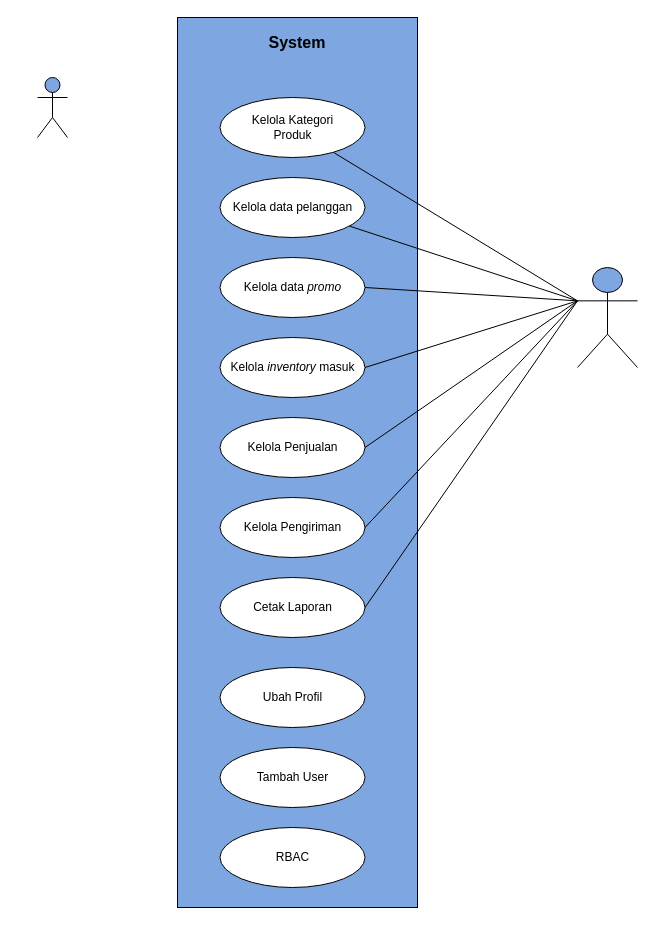
This 655x925 diagram has some shape labels left out. The shapes that lost their labels are listed below. From the top down, each one's box as (x1, y1, x2, y2) in pixels, then its label:
(36, 76, 68, 138): Administrator
(576, 266, 638, 368): Operator
